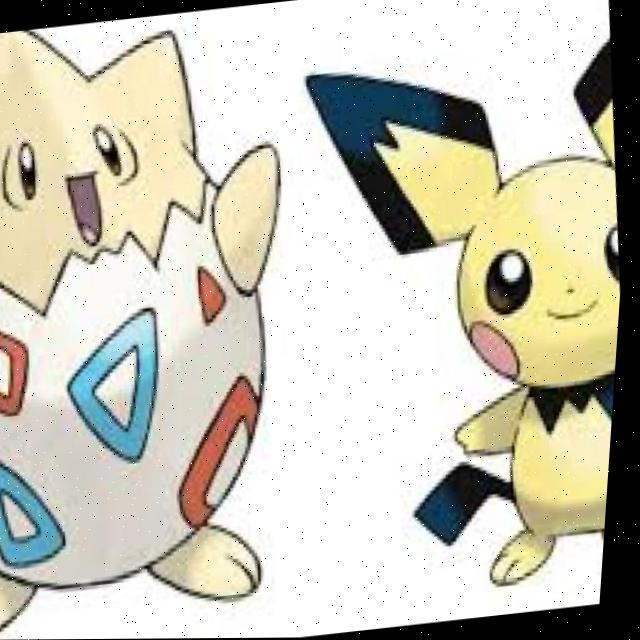pichu: (256, 11, 639, 636)
